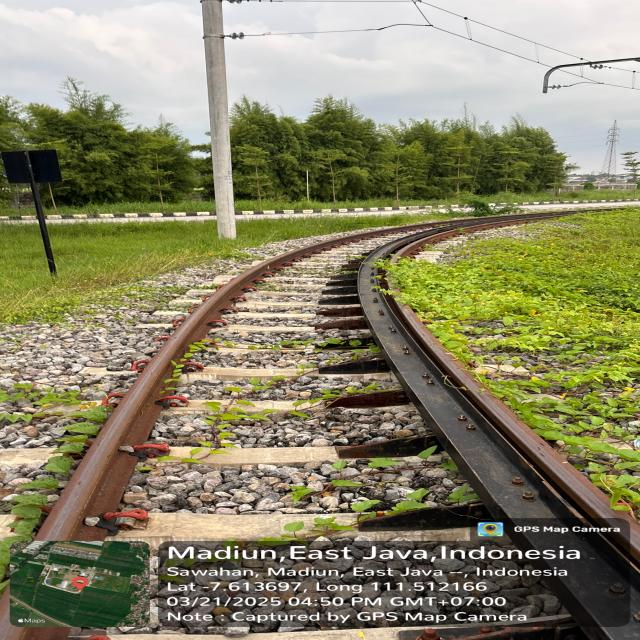rail-detection: (36, 222, 432, 541), (356, 227, 640, 640), (433, 212, 571, 237)
